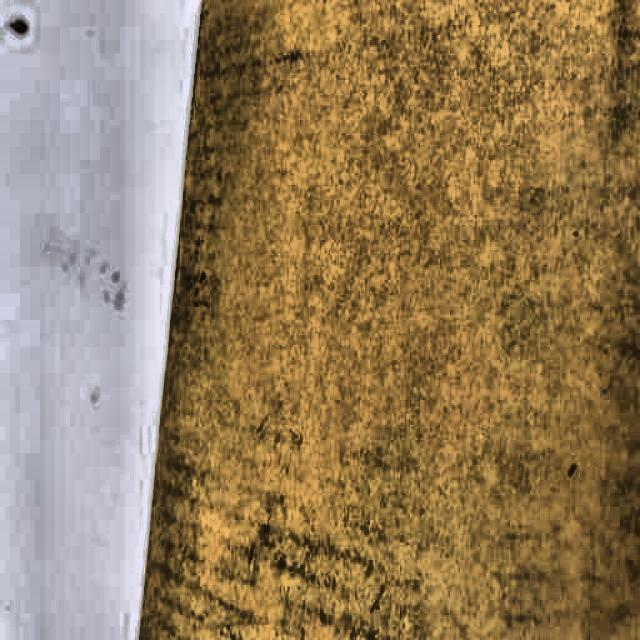cardboard: (129, 0, 639, 638)
